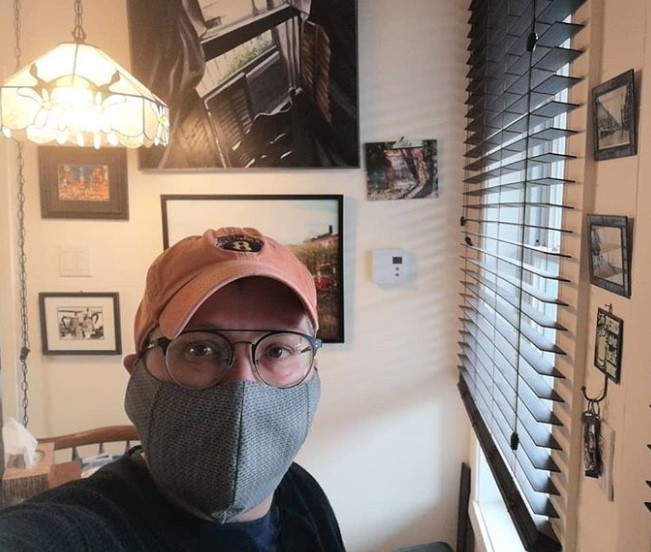face_with_mask: (129, 224, 328, 525)
